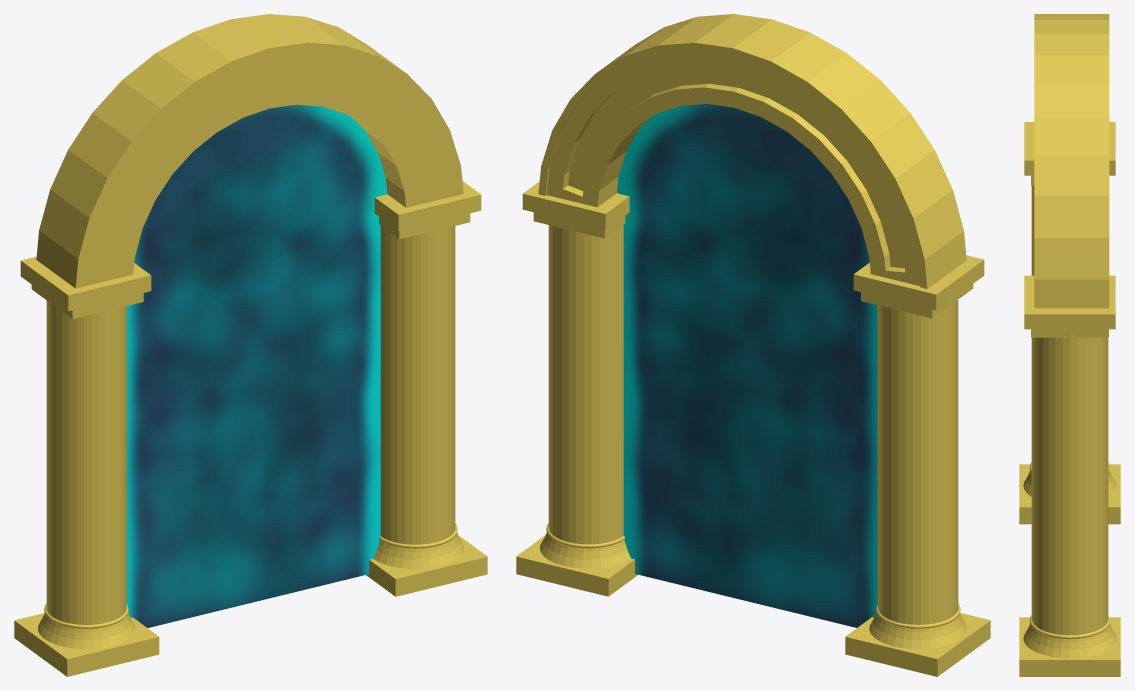
File: greek-arch.glb
3 views of the same model, side by side, from view 1: azimuth 30°, elevation 25°; view 2: azimuth 150°, elevation 25°; view 3: azimuth 270°, elevation 25° (orthographic). The views are drawn at different scales.
Visible parts, largest first — view 1: Plane, Circle.001; view 2: Plane, Circle.001; view 3: Circle.001.
Boxes of the visible parts, x1,y1,x2,y2 form: Plane: (126,104,387,627); Circle.001: (14,14,487,676); Plane: (617,104,877,627); Circle.001: (516,14,990,676); Circle.001: (1019,14,1120,676).
Size of the model in its own units: 3.97 by 5.16 by 0.8693.
2 materials, 1 textured.
